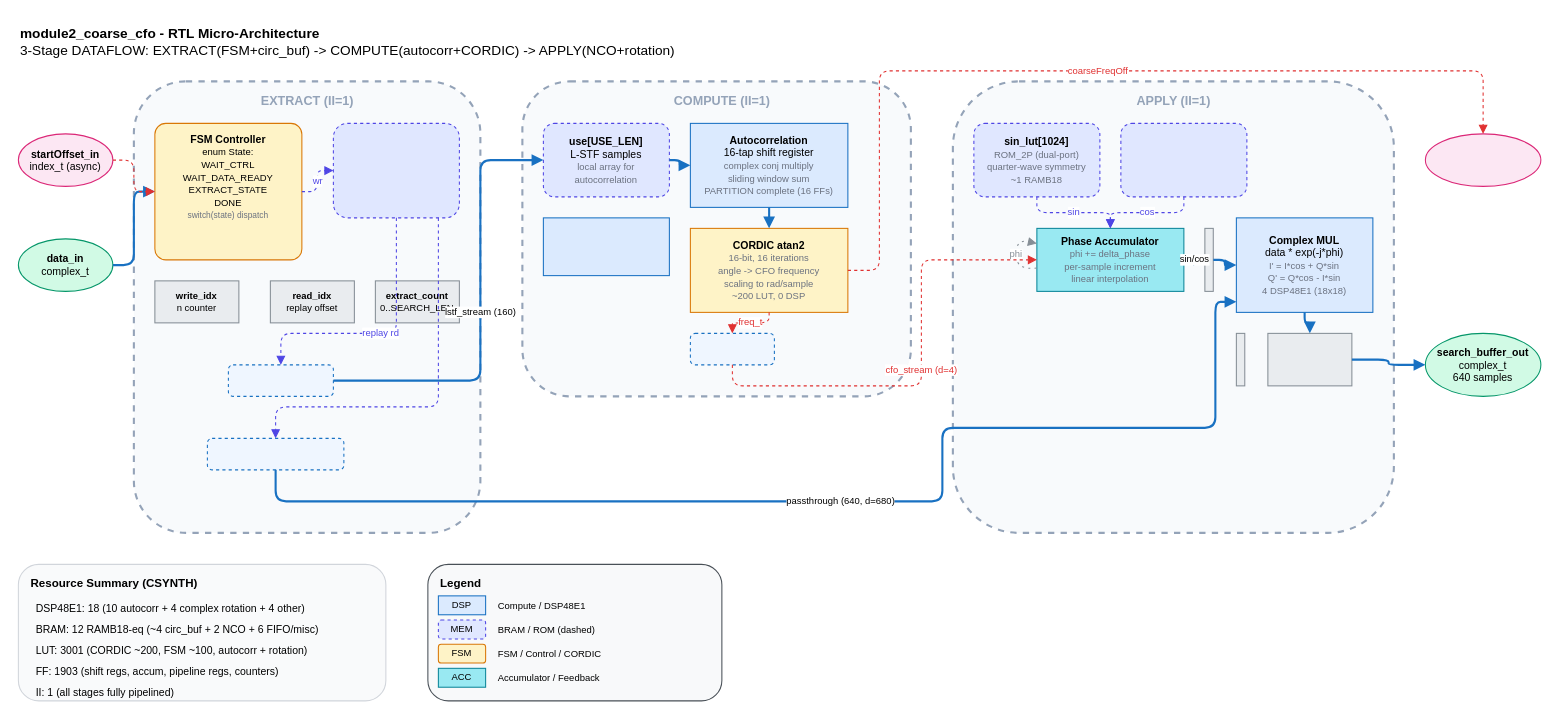
Some shapes in this 1559 by 719 pixel diagram are drawn without their labels. The centre of each missing label's shape, as x and y in pixels:
"cfo_stream d=4" belongs at [731,348].
"circ_buf[2048] complex_t BRAM (auto-inferred) write_idx & 0x7FF ~4 RAMB18" belongs at [395,170].
"coarseFreqOff_out freq_t" belongs at [1482,159].
"cos_lut[1024] ROM_2P (dual-port) quarter-wave symmetry ~1 RAMB18" belongs at [1183,159].
"DSP: 10 MUL complex conj*delayed + energy products" belongs at [605,246].
"lstf_stream d=160" belongs at [280,380].
"passthrough_stream d=680" belongs at [275,453].
"TRUNC -> data_t" belongs at [1309,359].
